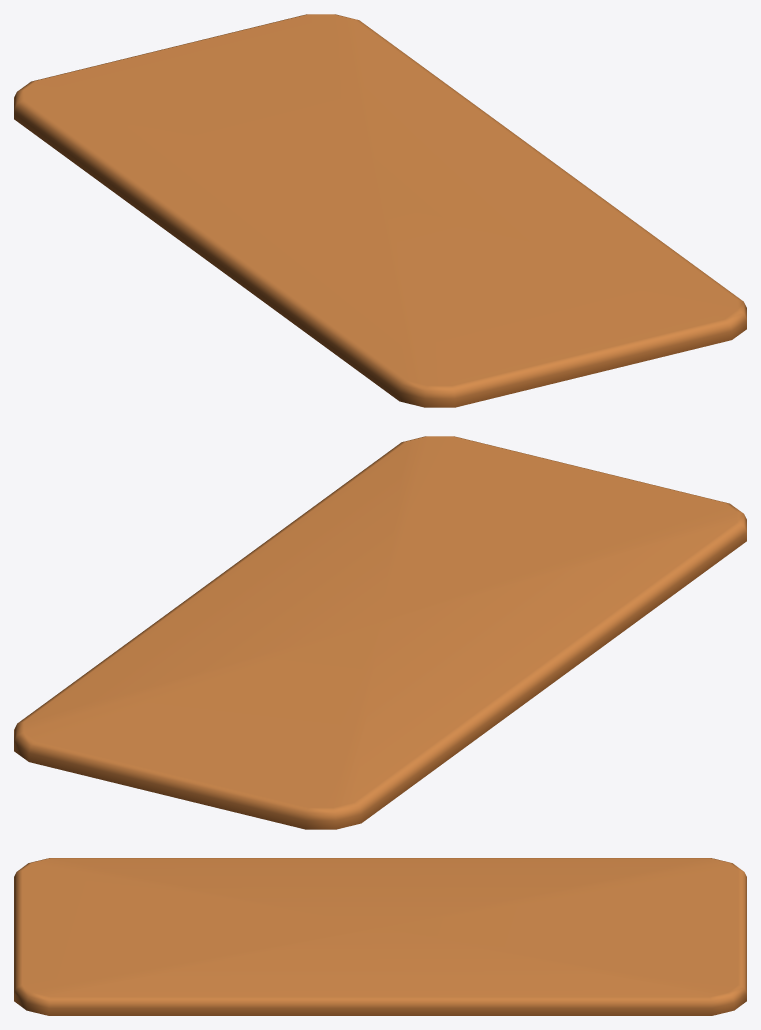
The model's file is Khay_Bottom.fbx.
The picture shows the model from 3 angles, top to bottom: view 1: azimuth 30°, elevation 25°; view 2: azimuth 150°, elevation 25°; view 3: azimuth 270°, elevation 25°; orthographic projection. The views are drawn at different scales.
Parts seen in each view (by area): view 1: buc2; view 2: buc2; view 3: buc2.
Boxes of the visible parts, <box> form: buc2: <box>14,14,746,407</box>; buc2: <box>14,436,746,829</box>; buc2: <box>14,858,746,1015</box>.
Bounding box in the file's own units: 288 × 14.21 × 611.
